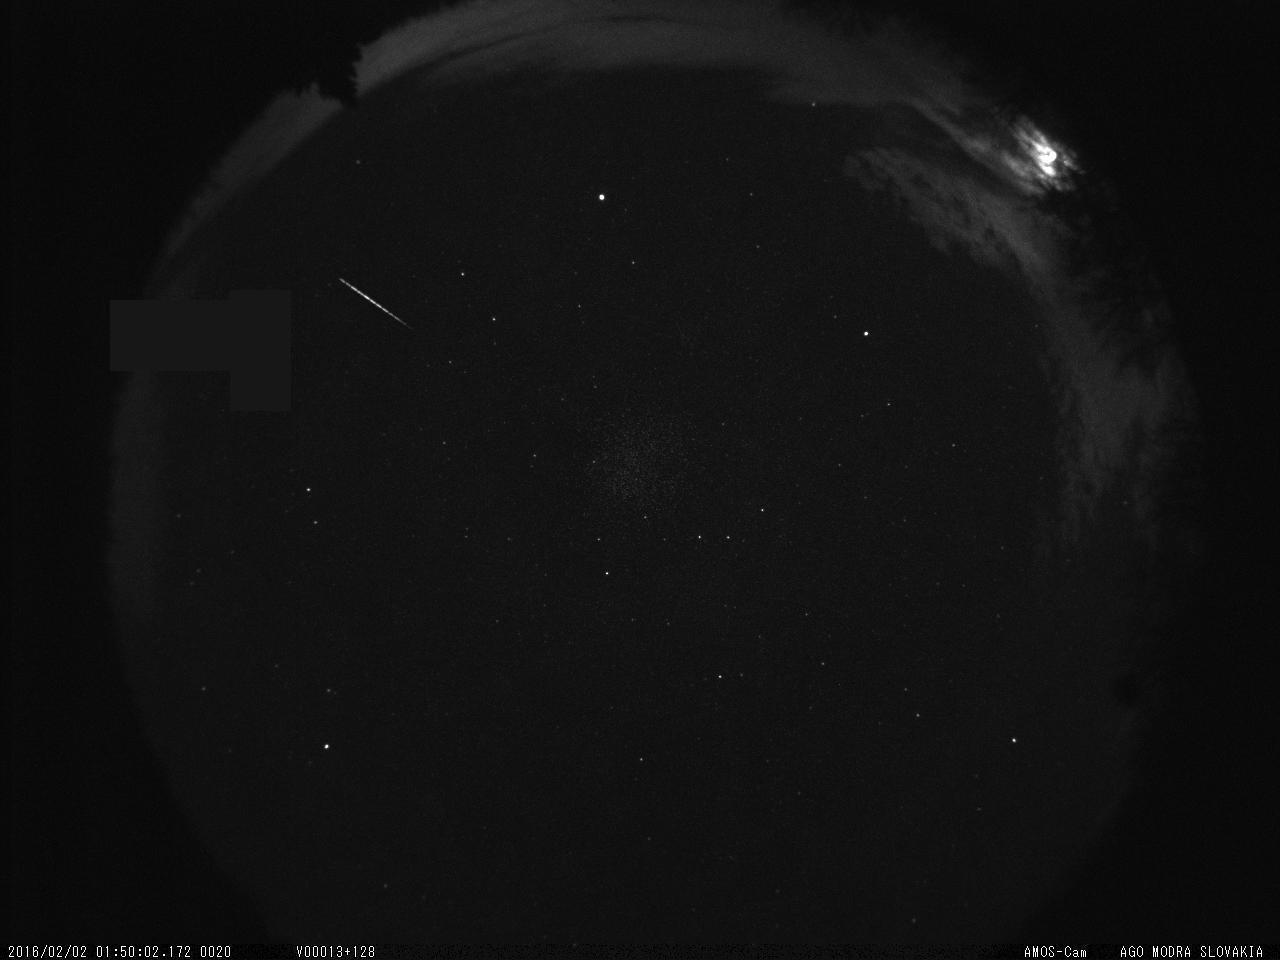Meteor: (329, 268, 419, 340)
